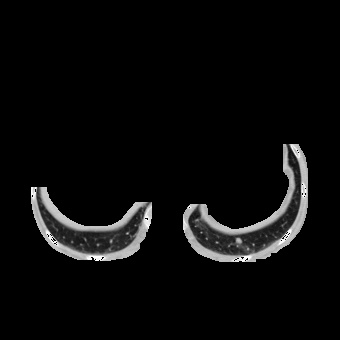PN: (234, 236, 242, 244)
